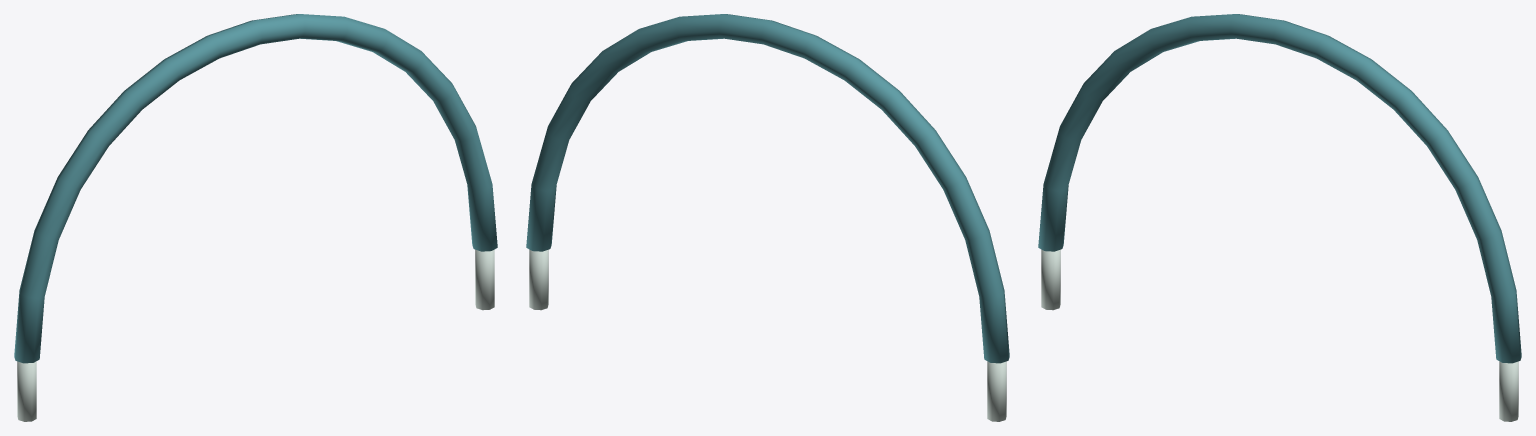
File: VLAB_tubing.fbx
The picture shows the model from 3 angles, left to right: view 1: azimuth 30°, elevation 25°; view 2: azimuth 150°, elevation 25°; view 3: azimuth 330°, elevation 25°; orthographic projection.
Parts seen in each view (by area): view 1: VLAB_tubing_TubeGuide_VIS, VLAB_tubing_ConnectorB_VIS, VLAB_tubing_ConnectorA_VIS; view 2: VLAB_tubing_TubeGuide_VIS, VLAB_tubing_ConnectorB_VIS, VLAB_tubing_ConnectorA_VIS; view 3: VLAB_tubing_TubeGuide_VIS, VLAB_tubing_ConnectorA_VIS, VLAB_tubing_ConnectorB_VIS.
Boxes of the visible parts, x1=… form: VLAB_tubing_TubeGuide_VIS: x1=14, y1=14, x2=497, y2=363; VLAB_tubing_ConnectorB_VIS: x1=475, y1=249, x2=494, y2=310; VLAB_tubing_ConnectorA_VIS: x1=17, y1=361, x2=36, y2=421; VLAB_tubing_TubeGuide_VIS: x1=526, y1=14, x2=1009, y2=363; VLAB_tubing_ConnectorB_VIS: x1=529, y1=249, x2=548, y2=310; VLAB_tubing_ConnectorA_VIS: x1=987, y1=361, x2=1006, y2=421; VLAB_tubing_TubeGuide_VIS: x1=1038, y1=14, x2=1521, y2=363; VLAB_tubing_ConnectorA_VIS: x1=1041, y1=249, x2=1060, y2=310; VLAB_tubing_ConnectorB_VIS: x1=1499, y1=361, x2=1518, y2=421.
Size of the model in its own units: 0.168 by 0.114 by 0.008.
